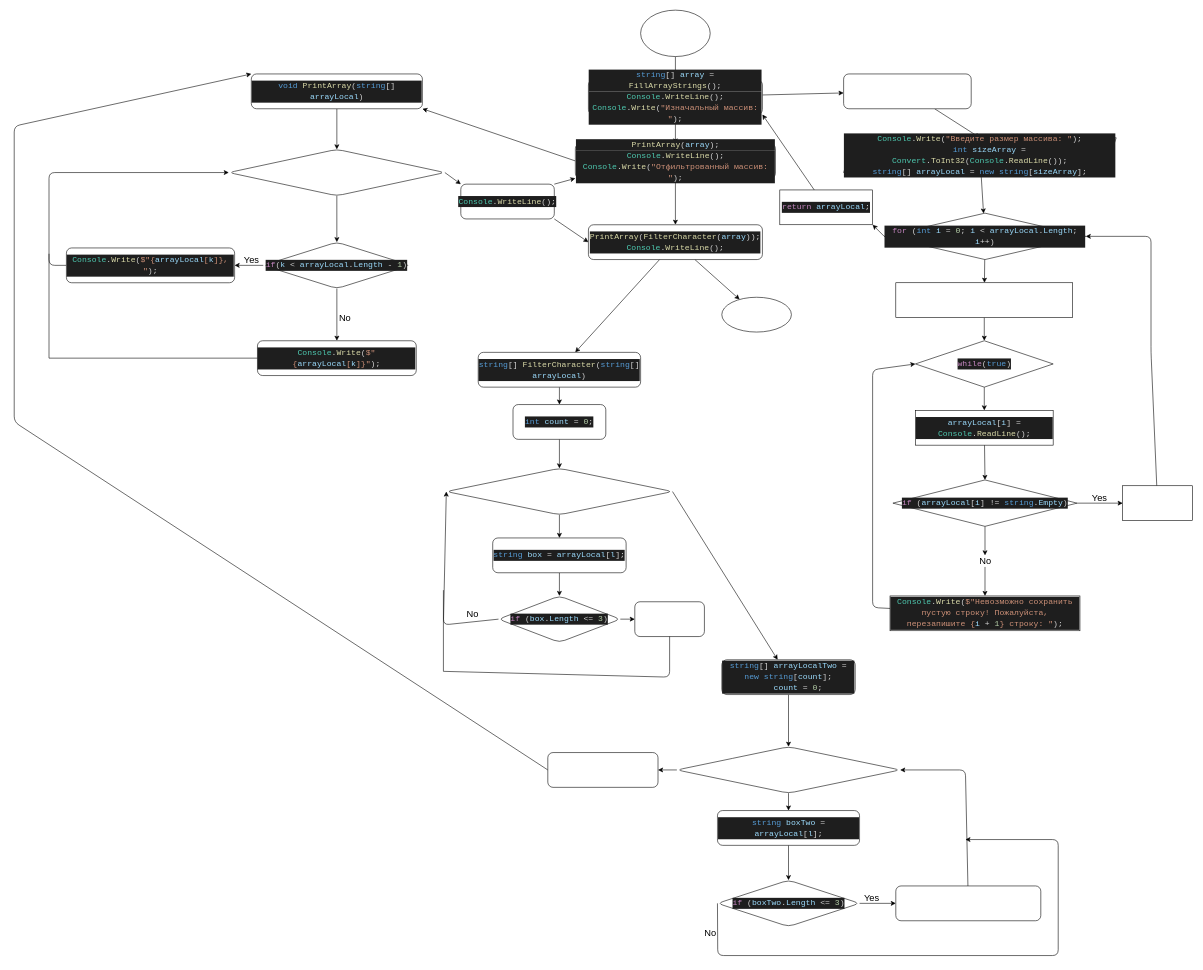
The diagram is 1203 pixels wide and 970 high, and some of its shapes have lost their labels. Each missing label, with the centre of its shape:
arrayLocalTwo [ count ] = boxTwo ; count ++;: (968,903)
break ;: (1157,503)
Console . Write ( $" Введите { i + 1 } строку символов: " );: (984,300)
count ++;: (669,619)
End: (756,314)
for ( int k = 0 ; k < arrayLocal . Length ; k ++): (336,172)
for ( int l = 0 ; l < arrayLocal . Length ; l ++ ): (788,769)
for ( int l = 0 ; l < arrayLocal . Length ; l ++): (559,491)
return arrayLocalTwo ;: (602,769)
Start: (675,33)
string [] FillArrayStrings (): (907,91)
